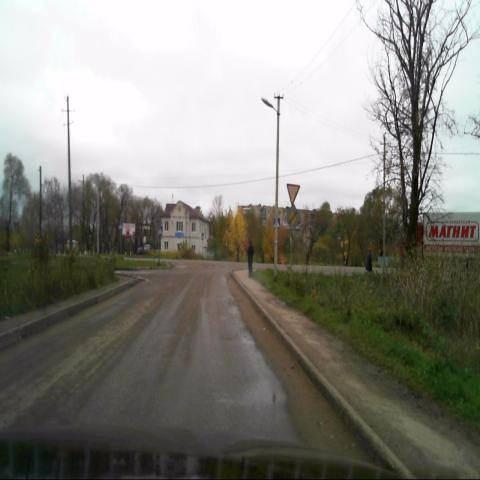2_2: (285, 204, 300, 231)
